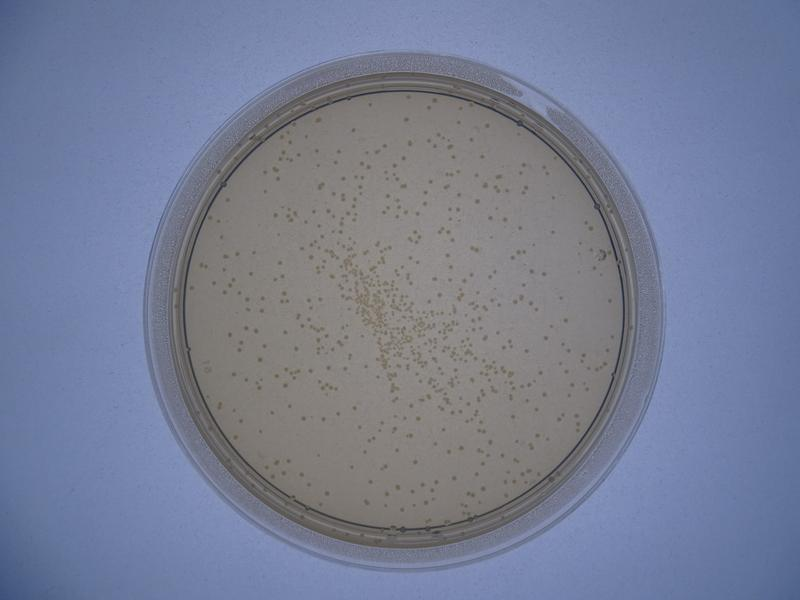colony: (467, 193, 484, 208), (476, 151, 494, 164), (469, 466, 485, 480), (398, 111, 412, 126), (294, 411, 309, 425), (419, 198, 435, 210), (502, 249, 515, 263), (537, 266, 552, 278), (414, 476, 429, 488), (446, 472, 463, 482), (441, 247, 454, 260), (417, 184, 430, 197), (264, 405, 277, 418), (465, 131, 477, 145), (272, 256, 286, 268), (217, 287, 229, 301), (499, 212, 511, 225), (559, 313, 572, 325), (538, 332, 551, 344), (223, 326, 235, 339), (275, 285, 288, 297), (532, 403, 544, 416), (504, 409, 517, 421), (408, 456, 421, 468), (320, 485, 332, 498), (278, 380, 291, 392), (562, 364, 575, 376), (476, 482, 489, 494), (304, 252, 318, 263), (556, 290, 567, 304), (364, 475, 378, 486), (529, 430, 543, 441), (564, 391, 578, 402), (390, 443, 402, 455), (404, 398, 416, 410), (268, 208, 281, 219), (454, 188, 465, 201), (538, 390, 551, 401), (518, 395, 531, 406), (345, 460, 356, 473), (319, 412, 330, 425), (392, 480, 403, 493), (377, 414, 387, 428), (321, 362, 335, 372), (431, 472, 441, 486), (246, 246, 261, 255), (513, 222, 525, 233), (245, 268, 256, 280), (328, 157, 340, 168), (445, 260, 456, 272), (517, 279, 529, 290), (253, 354, 265, 365), (289, 342, 301, 353), (250, 324, 261, 336), (240, 292, 252, 303), (444, 273, 456, 284), (348, 401, 359, 413), (429, 437, 440, 449), (282, 400, 294, 411), (495, 450, 506, 462), (533, 365, 545, 376), (567, 378, 578, 390), (305, 365, 317, 376), (413, 412, 425, 423), (230, 247, 241, 259), (257, 340, 270, 350), (436, 424, 449, 434), (333, 145, 344, 156), (380, 190, 391, 201), (277, 270, 288, 281), (398, 152, 409, 163), (545, 320, 556, 331), (443, 447, 454, 458), (509, 296, 519, 308), (435, 289, 445, 301), (333, 408, 343, 420), (358, 445, 370, 455), (340, 361, 350, 373), (570, 410, 582, 420), (413, 255, 422, 268), (548, 226, 556, 240), (348, 125, 359, 135), (485, 213, 496, 223), (337, 173, 348, 183), (279, 325, 290, 335), (359, 360, 370, 370), (227, 368, 238, 378), (256, 426, 266, 437), (256, 303, 266, 314), (294, 150, 304, 161), (270, 369, 281, 379), (521, 344, 530, 356), (456, 442, 465, 454), (282, 452, 291, 464), (205, 279, 220, 286), (296, 468, 306, 478), (240, 322, 250, 332), (313, 160, 322, 171), (378, 207, 387, 218), (532, 305, 541, 316), (494, 326, 503, 337), (497, 343, 508, 352), (354, 422, 363, 433), (564, 344, 573, 355), (232, 345, 244, 353), (314, 295, 327, 302), (312, 145, 321, 155), (303, 480, 313, 489), (237, 415, 246, 425), (413, 209, 422, 218), (425, 296, 433, 306), (241, 306, 252, 313), (242, 375, 250, 384)
